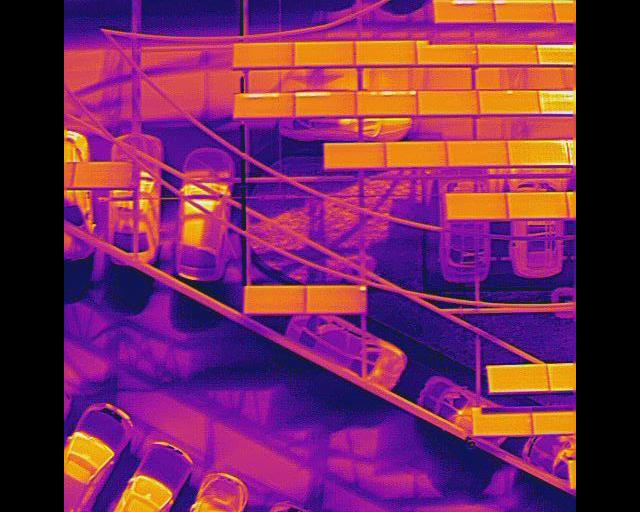Cell: (306, 284, 367, 312), (479, 88, 542, 114)
No-Anomaly: (323, 142, 385, 169), (385, 139, 446, 166), (446, 191, 507, 218), (489, 365, 550, 392), (244, 286, 306, 312), (232, 41, 293, 67), (447, 139, 508, 165), (72, 160, 131, 186), (416, 90, 477, 115), (507, 192, 568, 217), (294, 40, 354, 65), (355, 40, 416, 64), (473, 412, 533, 435), (418, 42, 477, 64), (479, 44, 538, 65)
Unclassified: (234, 91, 296, 118), (506, 139, 569, 164), (294, 91, 356, 115), (357, 90, 416, 114), (434, 0, 494, 22), (495, 0, 554, 22)
